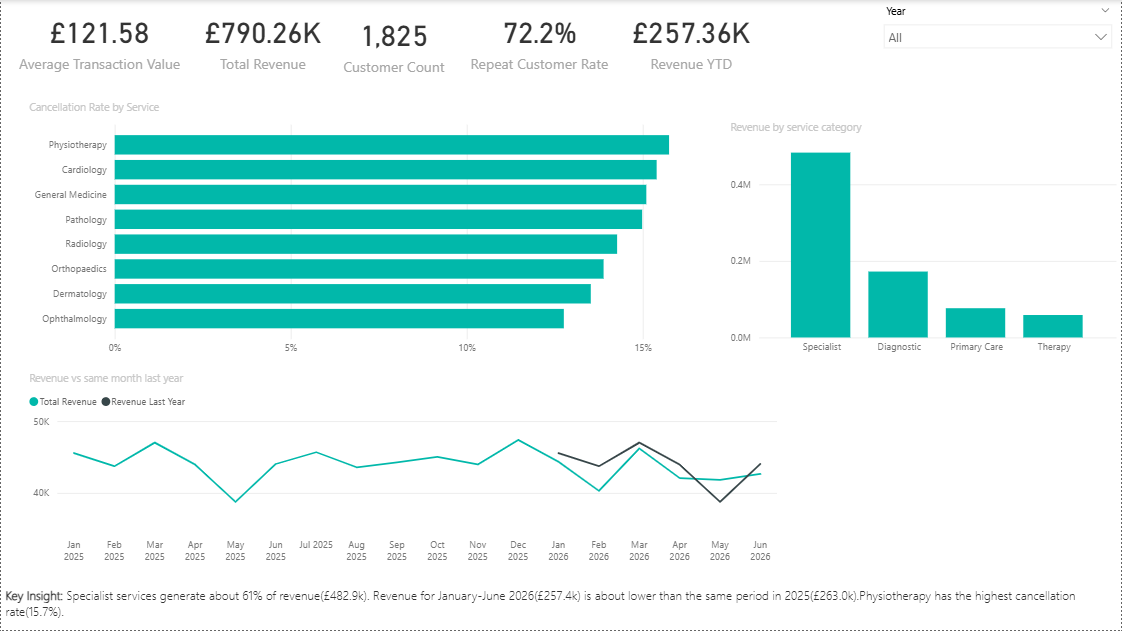

Layout of this report page (visuals, bound fields, positions):
{"tool":"powerbi","page":{"name":"Service Performance","canvas":[1280,720],"ordinal":6},"visuals":[{"type":"slicer","fields":{"Values":["Dim_Date.Year"]},"box":[999,0,281,93.7],"z":0},{"type":"card","fields":{"Values":["_Measures.Total Revenue"]},"box":[212.8,0,173.3,93],"z":1},{"type":"card","fields":{"Values":["_Measures.Revenue YTD"]},"box":[707,0,164,93],"z":2},{"type":"card","fields":{"Values":["_Measures.Average Transaction Value"]},"box":[0,0,225.6,93],"z":3},{"type":"card","fields":{"Values":["_Measures.Customer Count"]},"box":[374.4,0,150,98.8],"z":4},{"type":"card","fields":{"Values":["_Measures.Repeat Customer Rate"]},"box":[524.4,0,182.6,93],"z":5},{"type":"clusteredBarChart","title":"Cancellation Rate by Service","fields":{"Y":["_Measures.Cancellation Rate"],"Category":["Dim_Service.Service_Name"]},"box":[26.7,114,762.8,300],"z":6},{"type":"clusteredColumnChart","title":"Revenue by service category","fields":{"Category":["Dim_Service.Category"],"Y":["_Measures.Total Revenue"]},"box":[829.1,137.2,451.2,276.7],"z":7},{"type":"lineChart","title":"Revenue vs same month last year","fields":{"Category":["Dim_Date.Month_Year"],"Y":["_Measures.Total Revenue","_Measures.Revenue Last Year"]},"box":[26.7,424.4,867.4,226.7],"z":8},{"type":"textbox","box":[0,666.3,1280.2,53.5],"z":9}]}

Visuals, with their boxes in screenshot pixels (x1, y1, x2, y2), scaled from the page's 1280x720 canvas onto the 1122x631 screenshot:
slicer - Dim_Date.Year: crop(876, 0, 1121, 82)
card - _Measures.Total Revenue: crop(187, 0, 338, 82)
card - _Measures.Revenue YTD: crop(620, 0, 763, 82)
card - _Measures.Average Transaction Value: crop(0, 0, 198, 82)
card - _Measures.Customer Count: crop(328, 0, 460, 87)
card - _Measures.Repeat Customer Rate: crop(460, 0, 620, 82)
"Cancellation Rate by Service" clusteredBarChart: crop(23, 100, 692, 363)
"Revenue by service category" clusteredColumnChart: crop(727, 120, 1121, 363)
"Revenue vs same month last year" lineChart: crop(23, 372, 784, 571)
textbox: crop(0, 584, 1121, 630)
